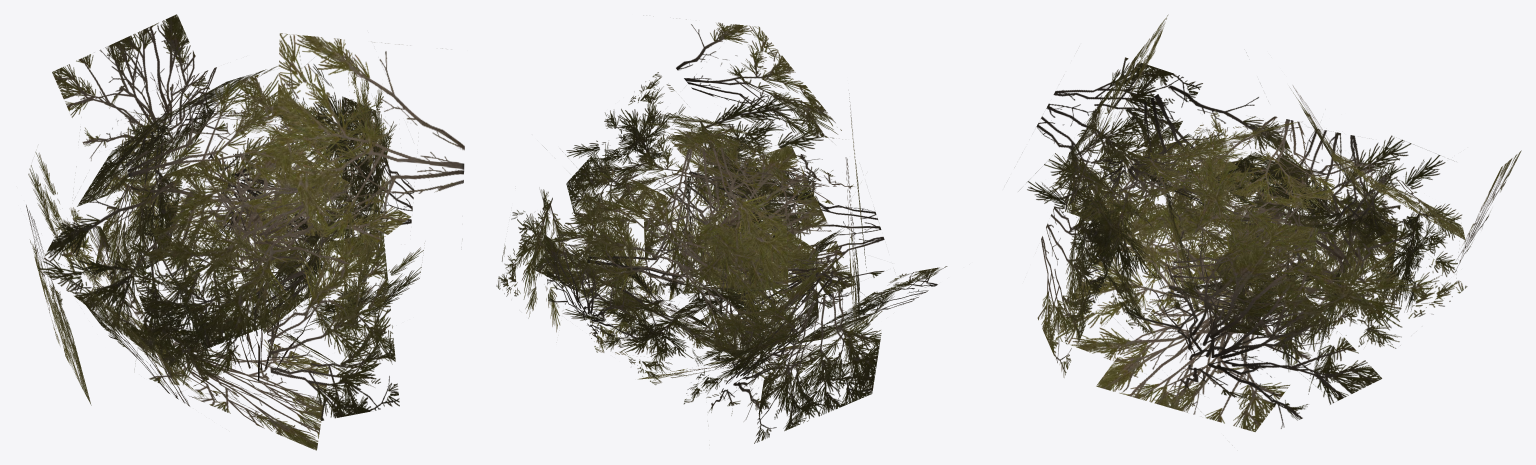
Rendered from bush_c.glb.
The picture shows the model from 3 angles, left to right: view 1: azimuth 30°, elevation 25°; view 2: azimuth 150°, elevation 25°; view 3: azimuth 270°, elevation 25°; orthographic projection. The views are drawn at different scales.
Visible parts, largest first — view 1: cards, trunk; view 2: cards; view 3: cards, trunk.
Boxes of the visible parts, x1=… form: cards: x1=26, y1=14, x2=464, y2=450; trunk: x1=135, y1=190, x2=377, y2=381; cards: x1=496, y1=22, x2=947, y2=443; cards: x1=1027, y1=14, x2=1521, y2=431; trunk: x1=1109, y1=193, x2=1297, y2=357.
Size of the model in its own units: 0.8125 by 0.8381 by 1.01.
Materials: 2 (2 with a texture image).
